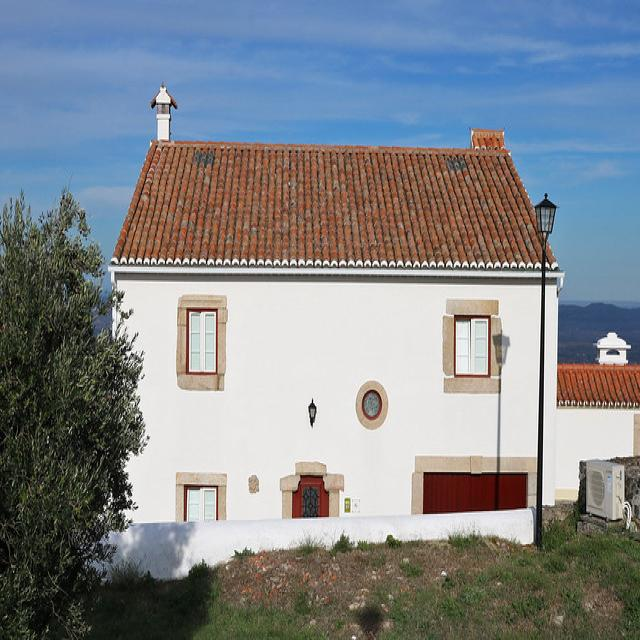building: (100, 89, 562, 564)
